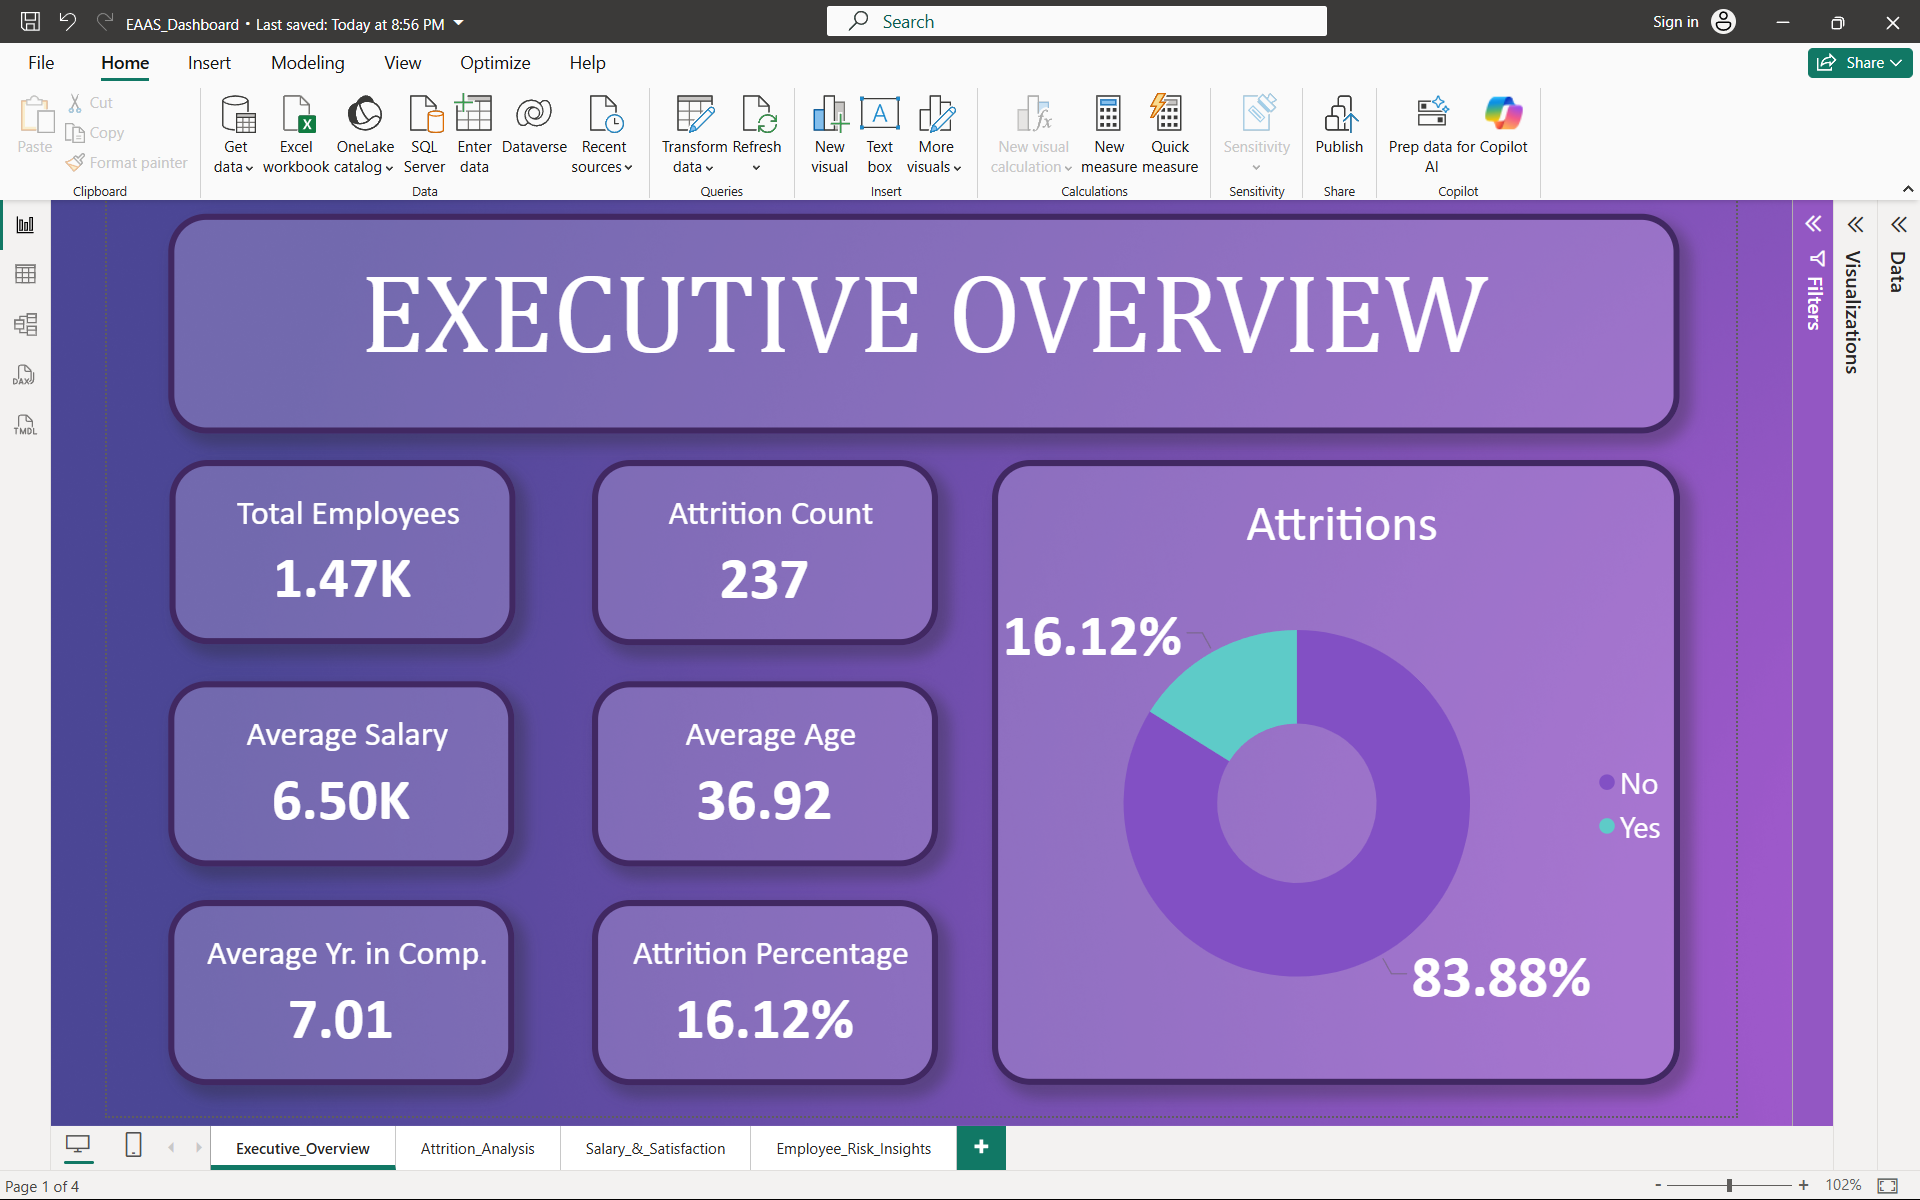

What the dashboard file says about the page in this screenshot:
{"tool":"powerbi","page":{"name":"Executive_Overview","canvas":[1280,720],"ordinal":0},"visuals":[{"type":"card","title":"Total Employees","fields":{"Values":["CountNonNull(cleaned_attrition.Age)"]},"box":[49.4,204.5,272,145],"z":0},{"type":"card","title":"Average Age","fields":{"Values":["Avg(cleaned_attrition.Age)"]},"box":[381.5,378.7,271.7,145.5],"z":1000},{"type":"card","title":"Attrition Percentage","fields":{"Values":["cleaned_attrition.Atrr_Per"]},"box":[381.5,550.3,271.7,145.5],"z":2000},{"type":"card","title":"Average Salary","fields":{"Values":["Avg(cleaned_attrition.MonthlyIncome)"]},"box":[48,378.7,272,145.5],"z":3000},{"type":"card","title":"Attrition Count","fields":{"Values":["cleaned_attrition.Atrr_Count"]},"box":[381.5,204.5,271.7,145.5],"z":4000},{"type":"card","title":"Average Yr. in Comp.","fields":{"Values":["Avg(cleaned_attrition.YearsAtCompany)"]},"box":[48,550.3,272,145.5],"z":5000},{"type":"textbox","box":[48,11,1188.3,172.9],"z":6000},{"type":"donutChart","title":"Attritions","fields":{"Category":["cleaned_attrition.Attrition"],"Y":["CountNonNull(cleaned_attrition.Attrition)"]},"box":[695.7,204.5,540.7,491.3],"z":7000}]}

Visuals, with their boxes on the page's 1280x720 design canvas (x1, y1, x2, y2). These are canvas units, not pixel positions in the 1920x1200 screenshot, which may show the page scaled, cropped or inside an application window:
"Total Employees" card: 49:204:321:350
"Average Age" card: 382:379:653:524
"Attrition Percentage" card: 382:550:653:696
"Average Salary" card: 48:379:320:524
"Attrition Count" card: 382:204:653:350
"Average Yr. in Comp." card: 48:550:320:696
textbox: 48:11:1236:184
"Attritions" donutChart: 696:204:1236:696
